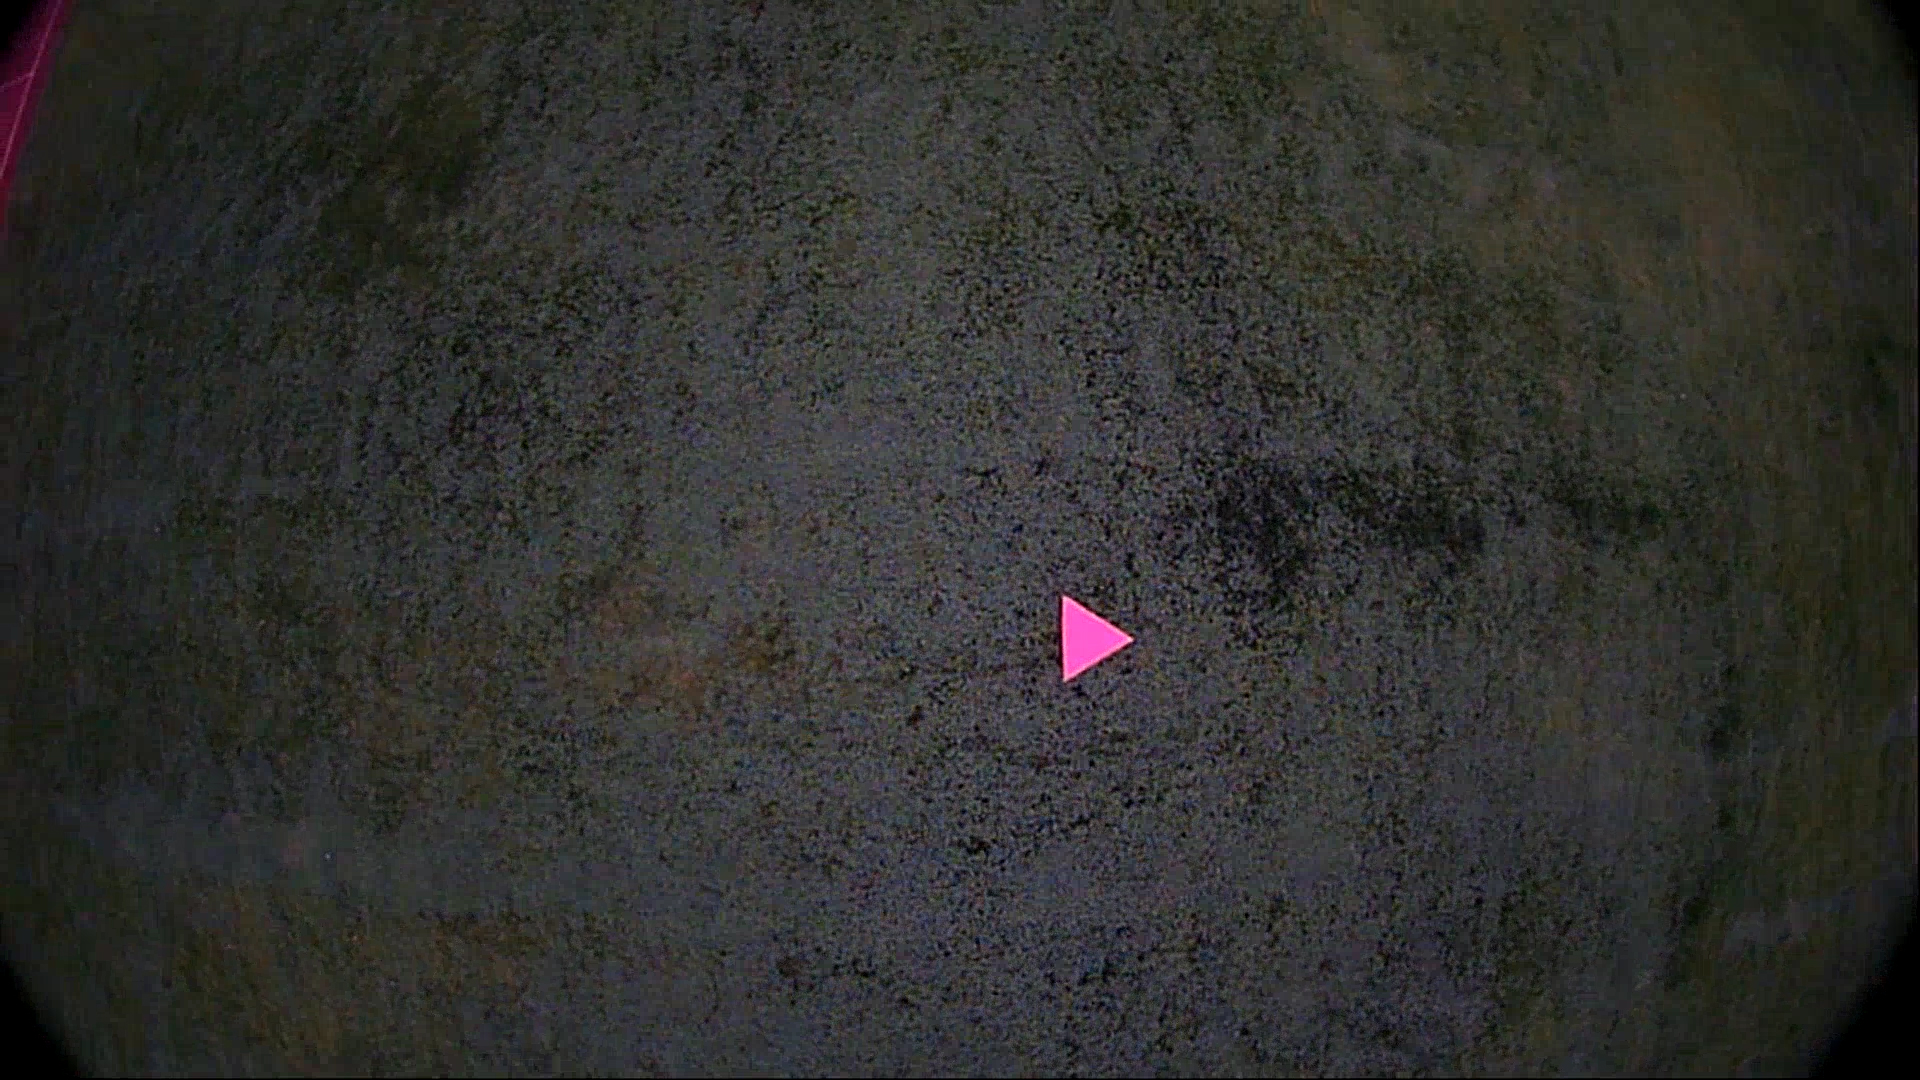triangle: (1052, 589, 1137, 682)
